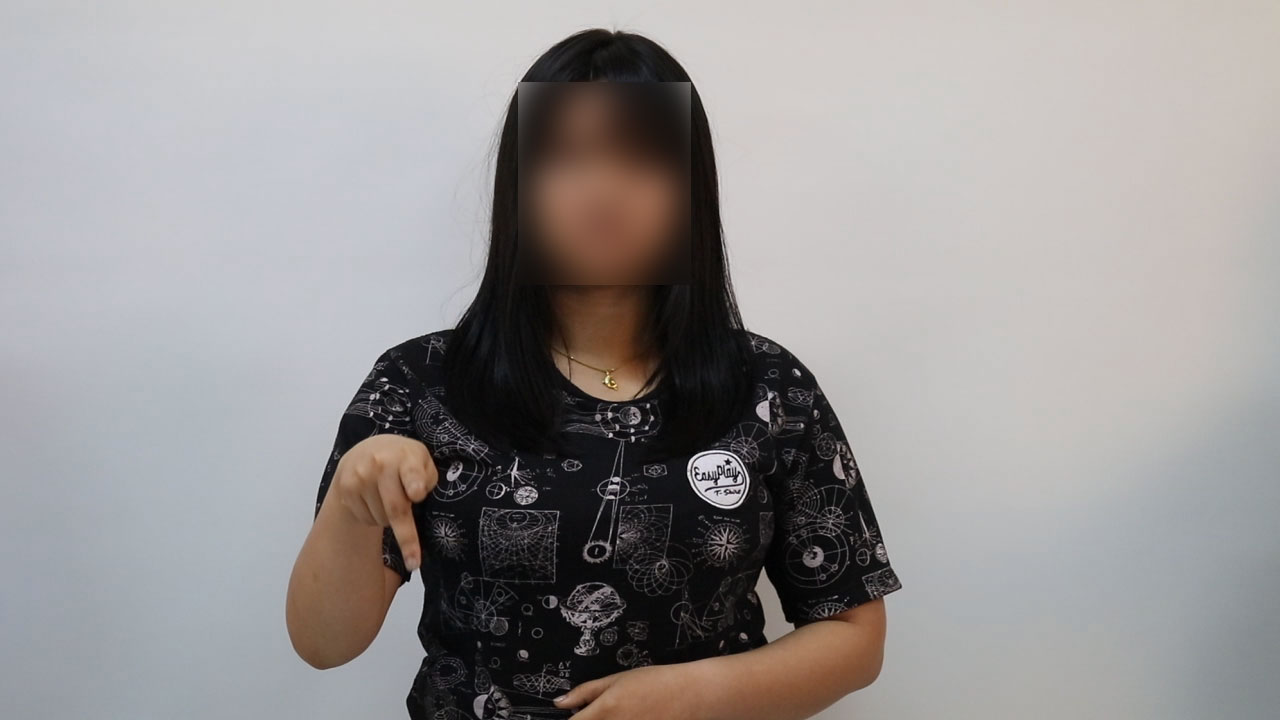por: (333, 419, 451, 585)
